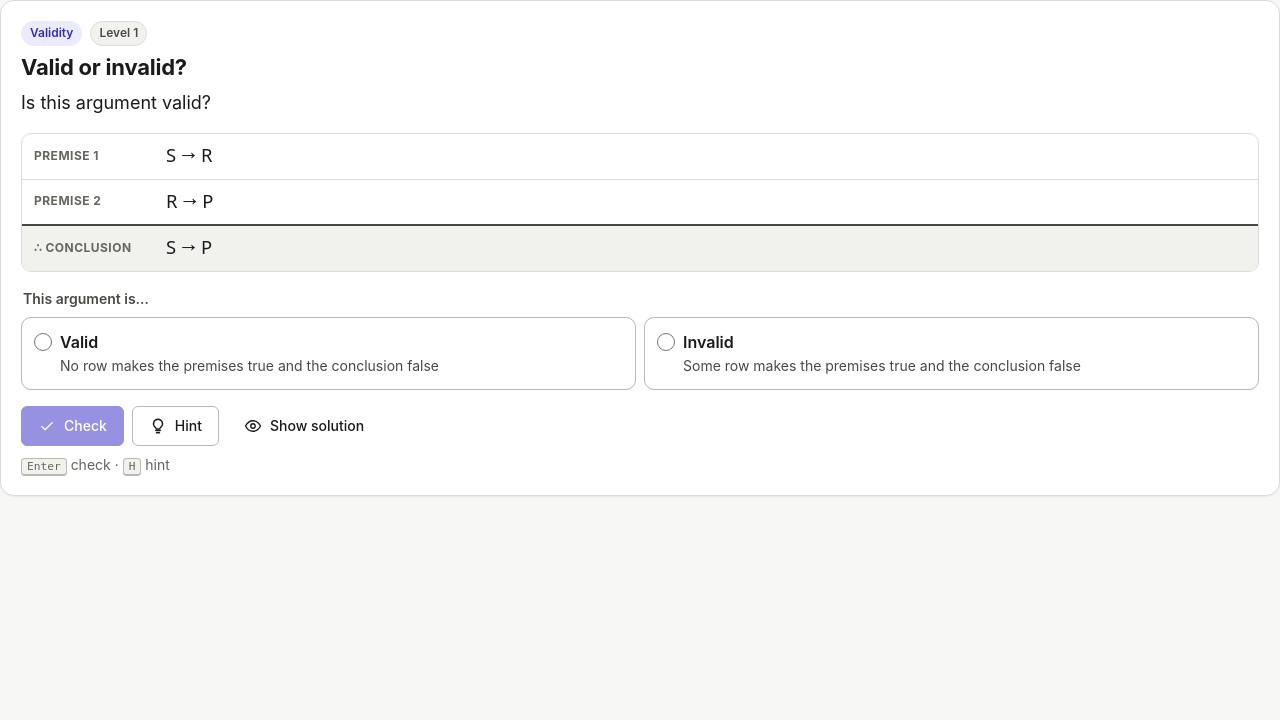
Test: validity: CORRECT is not shown as current after switching to the other option (both directions)
Step 1. Click the radio button labelled "Valid" → click(43, 342), box left=34, top=333, right=52, bottom=351
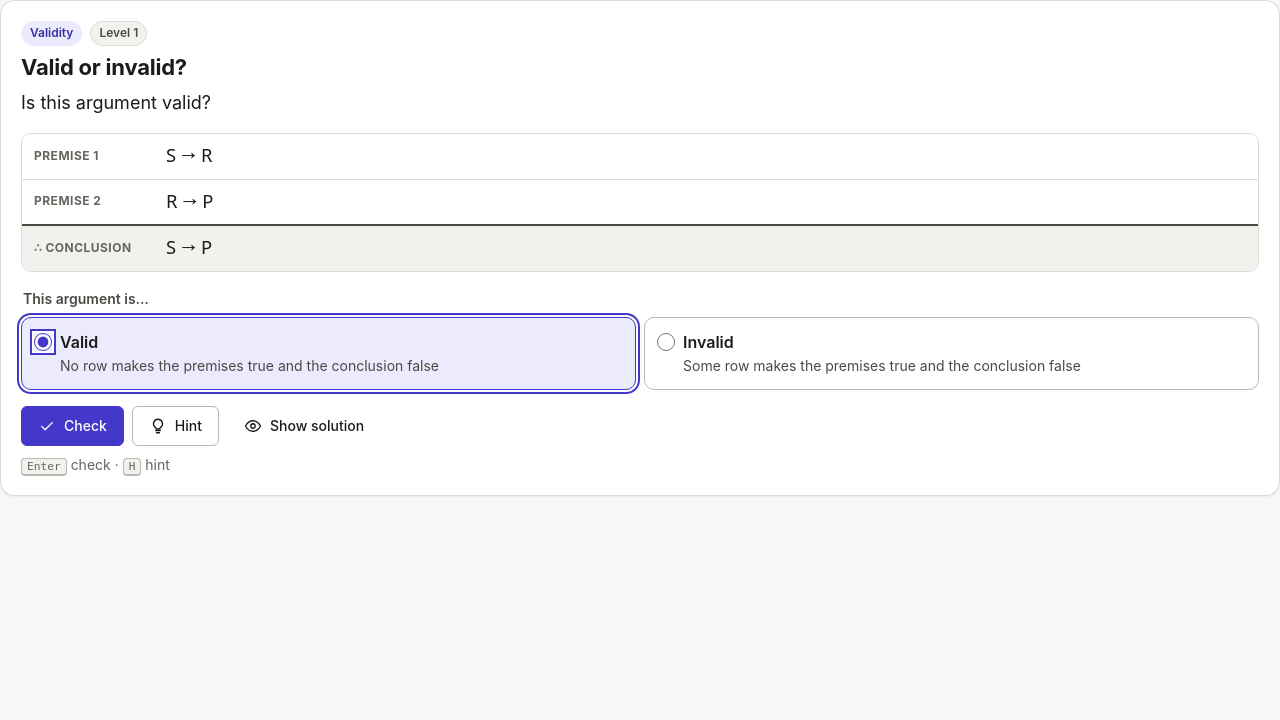
Step 2. Click the button "Check" → click(72, 426), box left=21, top=406, right=124, bottom=446
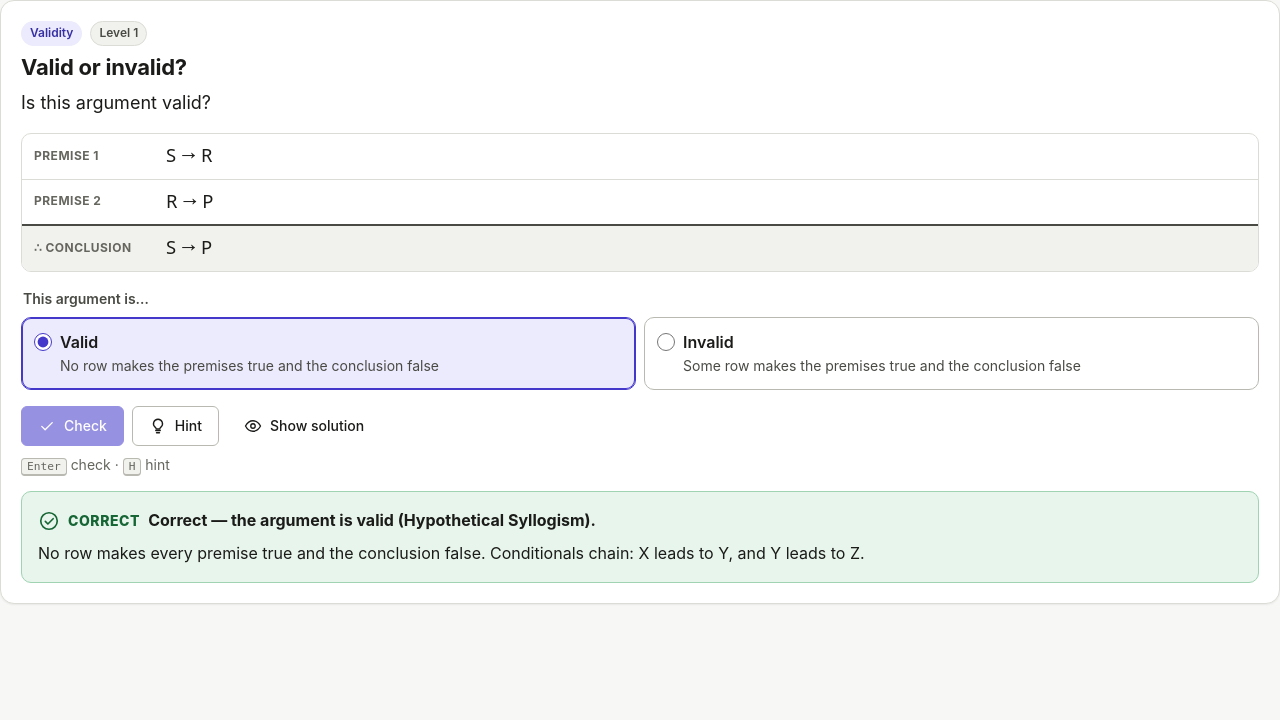
Now the message with test id "feedback" shows "Correct", box left=68, top=512, right=140, bottom=529
Step 3. Click the radio button labelled "Invalid" → click(666, 342), box left=657, top=333, right=675, bottom=351
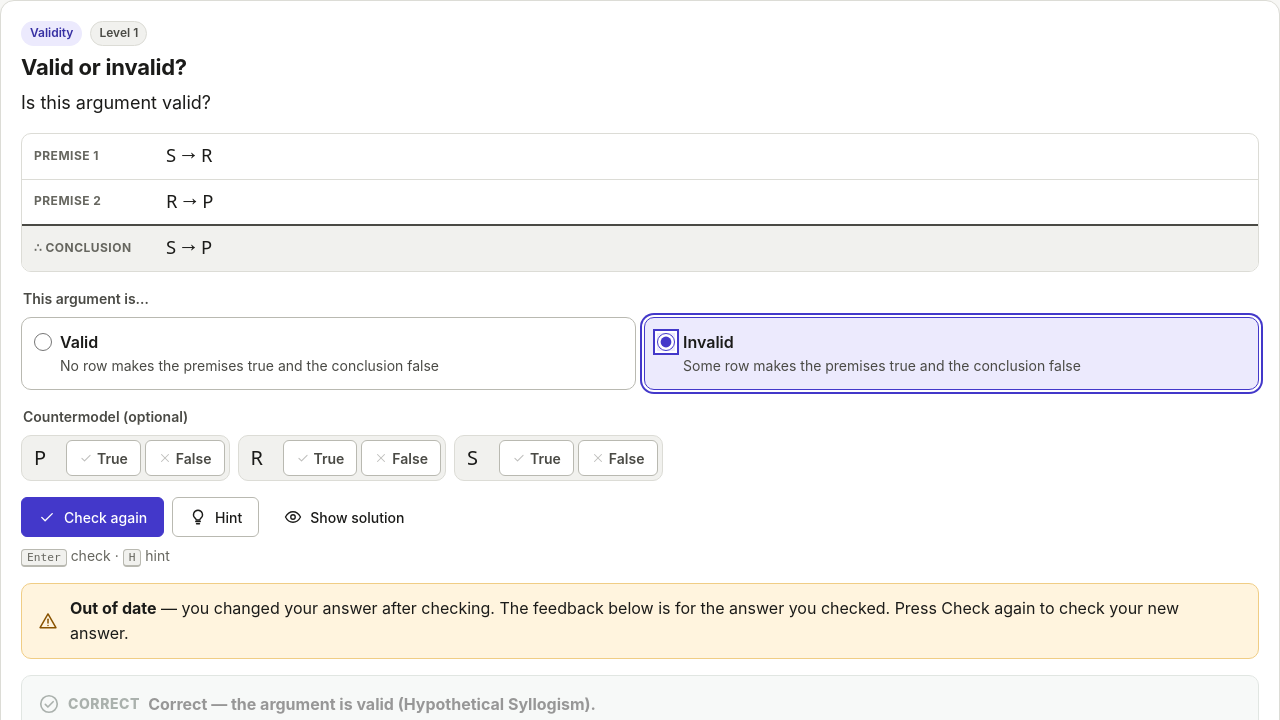
Now the message with test id "stale-banner" shows "Out of date", box left=70, top=598, right=156, bottom=618
Note: Check the wrong answer, then switch to the right one: NOT QUITE goes out of date.
Step 4. Click the button "Check again" → click(93, 517), box left=21, top=497, right=164, bottom=537
(page scrolled)
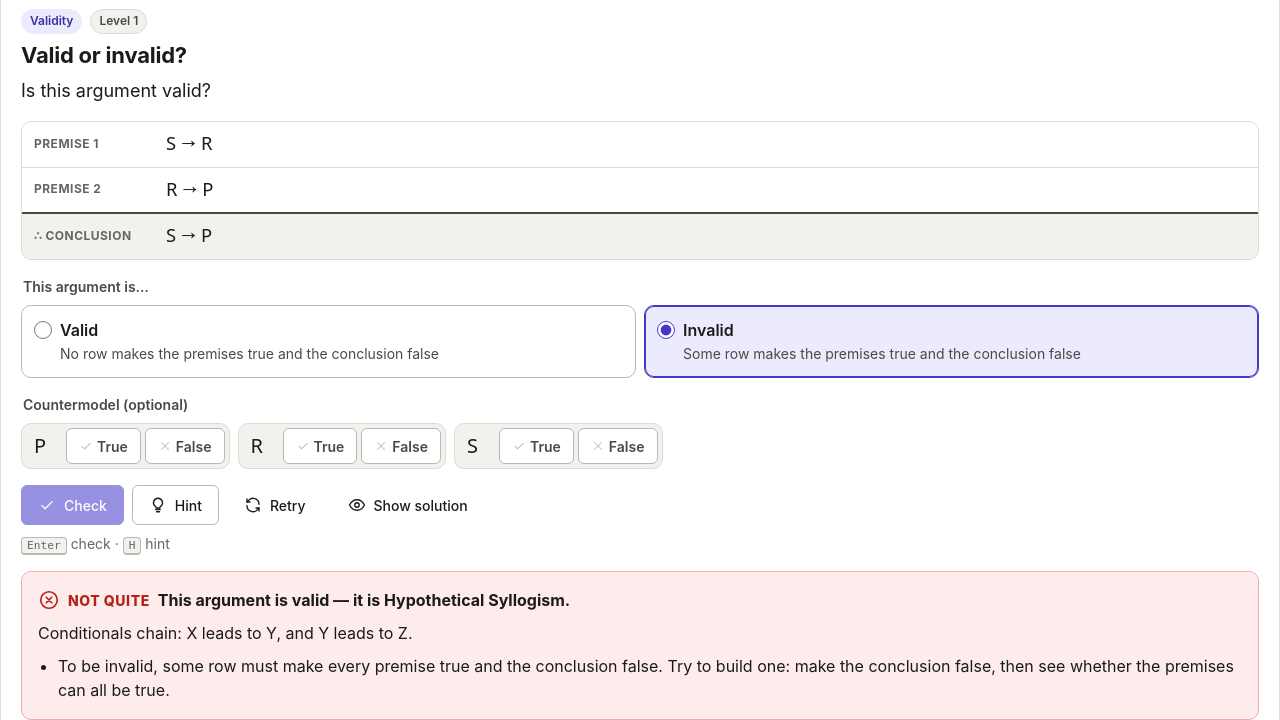
Now the message with test id "stale-banner" is gone
Now the message with test id "feedback" shows "Not quite", box left=68, top=592, right=150, bottom=609
Step 5. Click the radio button labelled "Valid" → click(43, 330), box left=34, top=321, right=52, bottom=339
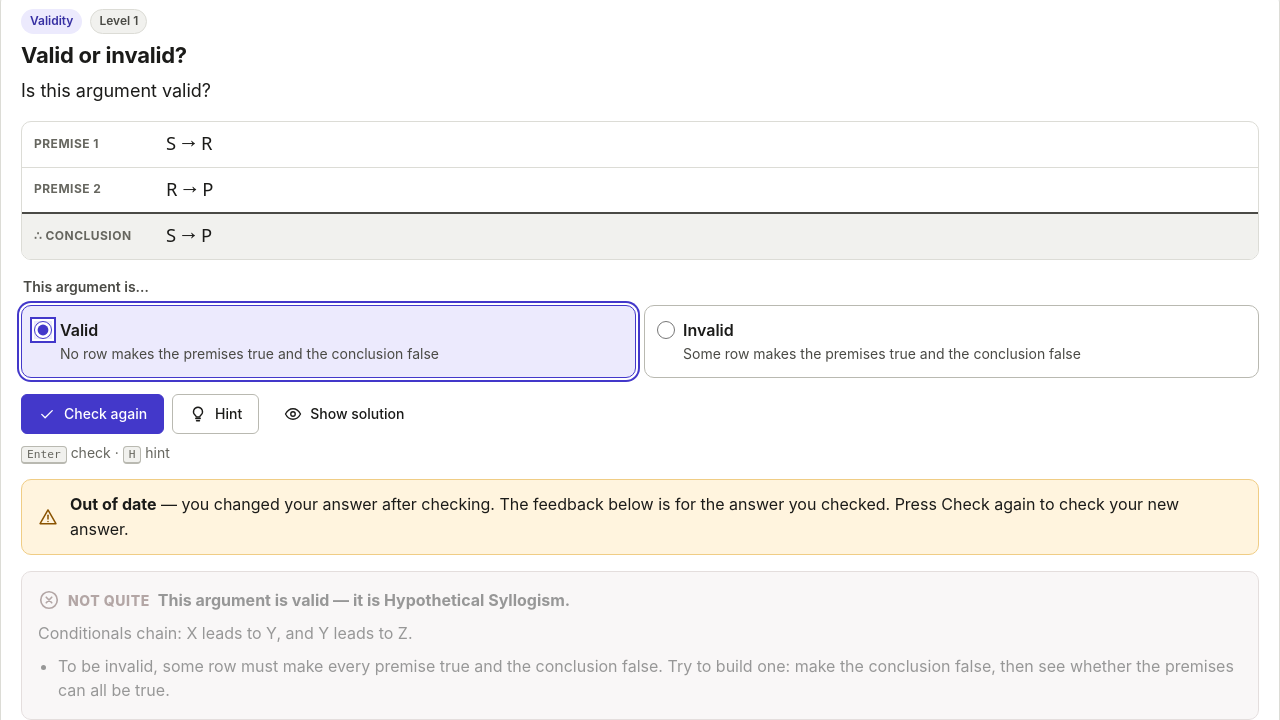
Now the message with test id "stale-banner" shows "Out of date", box left=70, top=494, right=156, bottom=514
Now the button "Retry" is gone
